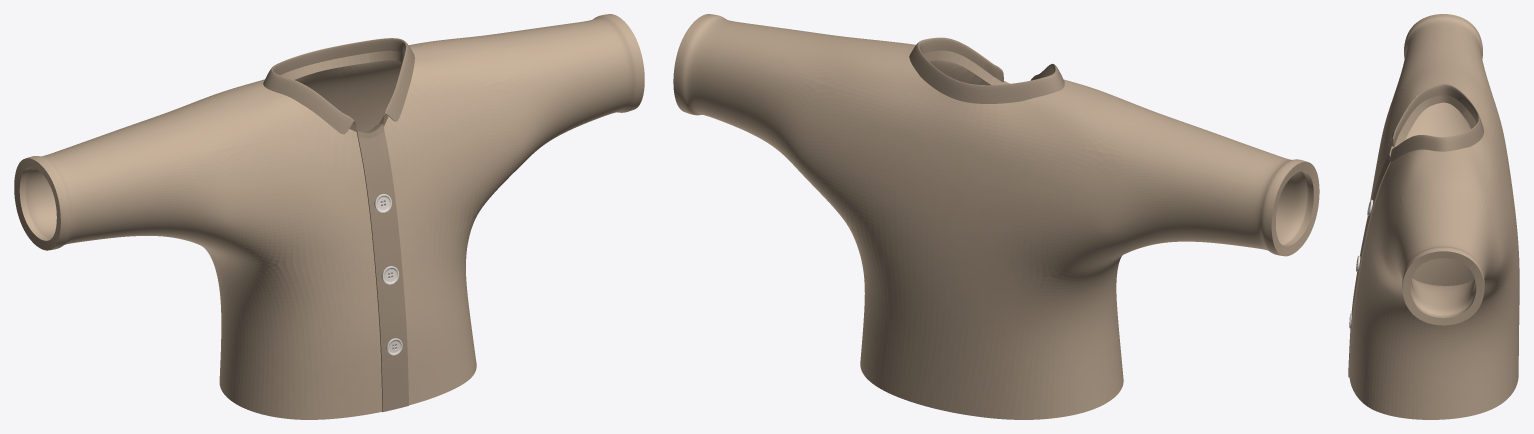
File: Shirt.fbx
The picture shows the model from 3 angles, left to right: view 1: azimuth 30°, elevation 25°; view 2: azimuth 150°, elevation 25°; view 3: azimuth 270°, elevation 25°; orthographic projection. The views are drawn at different scales.
Parts seen in each view (by area): view 1: ShirtMerged; view 2: ShirtMerged; view 3: ShirtMerged.
Boxes of the visible parts, box(x1,y1,x2,y2) form: ShirtMerged: box(14, 14, 644, 419); ShirtMerged: box(673, 14, 1319, 419); ShirtMerged: box(1348, 14, 1519, 419).
Size of the model in its own units: 760 by 230 by 389.
